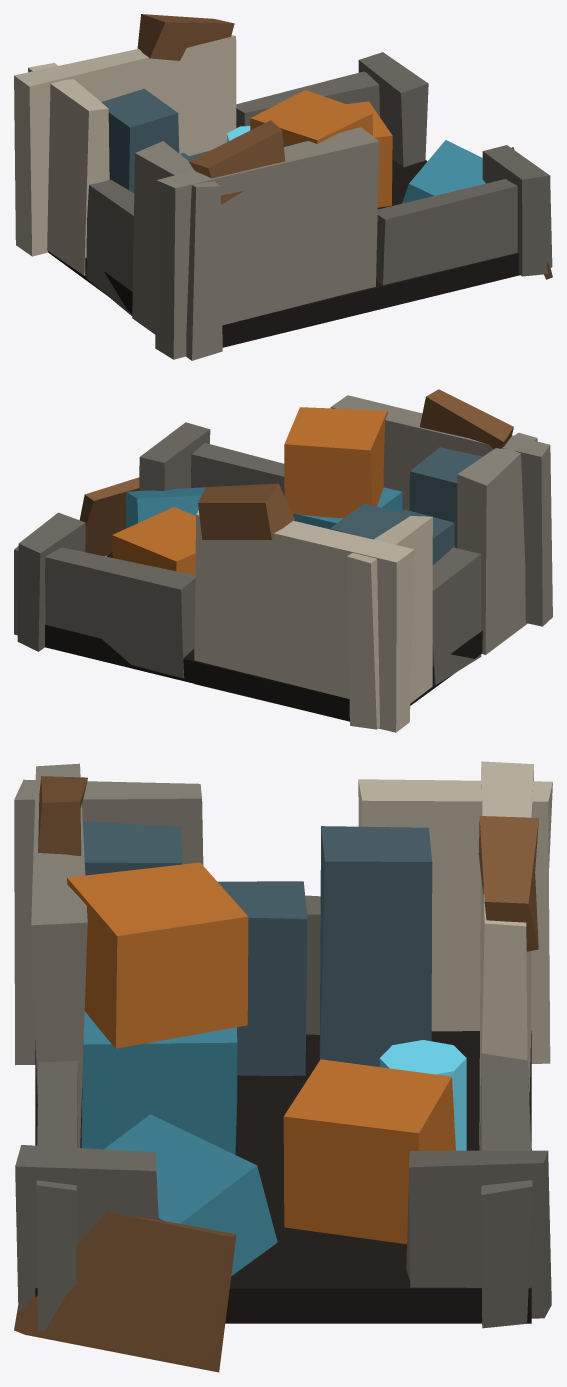
File: hull_bay.glb
3 renders of one model, top to bottom at view 1: azimuth 30°, elevation 25°; view 2: azimuth 150°, elevation 25°; view 3: azimuth 270°, elevation 25°, orthographic. The views are drawn at different scales.
Parts seen in each view (by area): view 1: hull_bay; view 2: hull_bay; view 3: hull_bay.
Part boxes in pixels (bbox=[...]): hull_bay: bbox=[14, 14, 552, 360]; hull_bay: bbox=[14, 389, 552, 732]; hull_bay: bbox=[14, 761, 552, 1372].
Size of the model in its own units: 5.02 by 2.39 by 3.47.
